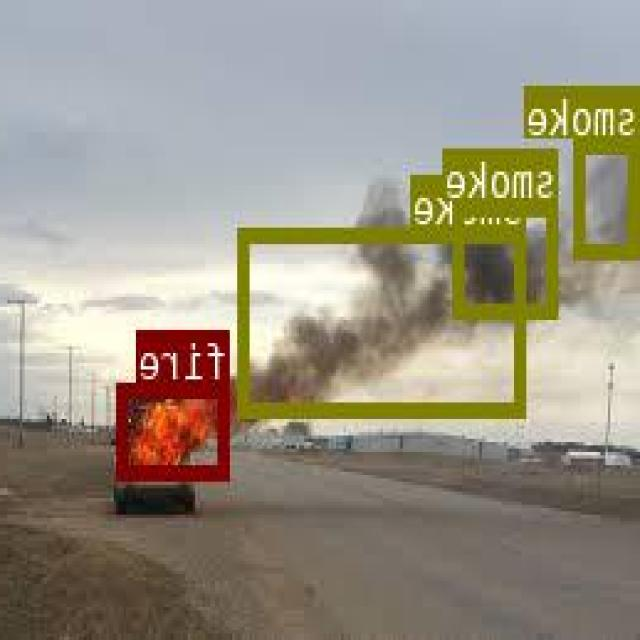fire: (119, 382, 232, 476)
smoke: (240, 225, 527, 415), (454, 199, 560, 315), (578, 137, 640, 256)
